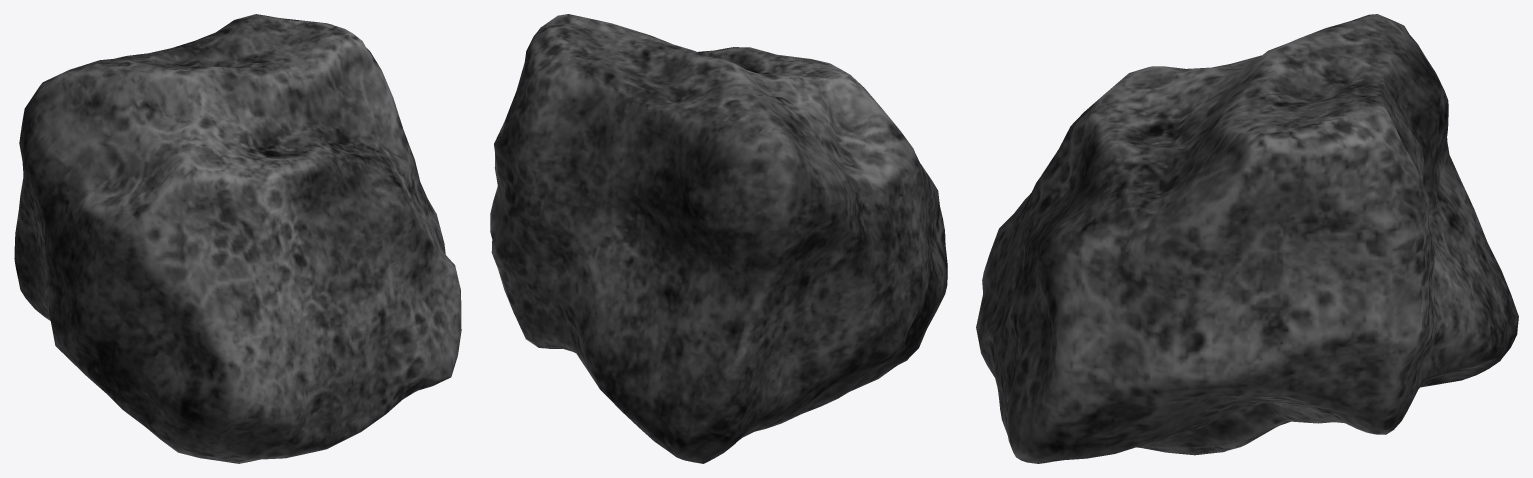
The model's file is Asteroid_7.fbx.
The picture shows the model from 3 angles, left to right: view 1: azimuth 30°, elevation 25°; view 2: azimuth 150°, elevation 25°; view 3: azimuth 270°, elevation 25°; orthographic projection. The views are drawn at different scales.
Visible parts, largest first — view 1: Asteroid_no_7; view 2: Asteroid_no_7; view 3: Asteroid_no_7.
Part boxes in pixels (box(x1,y1,x2,y2)): Asteroid_no_7: box(14, 14, 461, 463); Asteroid_no_7: box(490, 14, 947, 463); Asteroid_no_7: box(976, 14, 1518, 463).
Bounding box in the file's own units: 735 × 686 × 826.
Materials: 1 (1 with a texture image).
